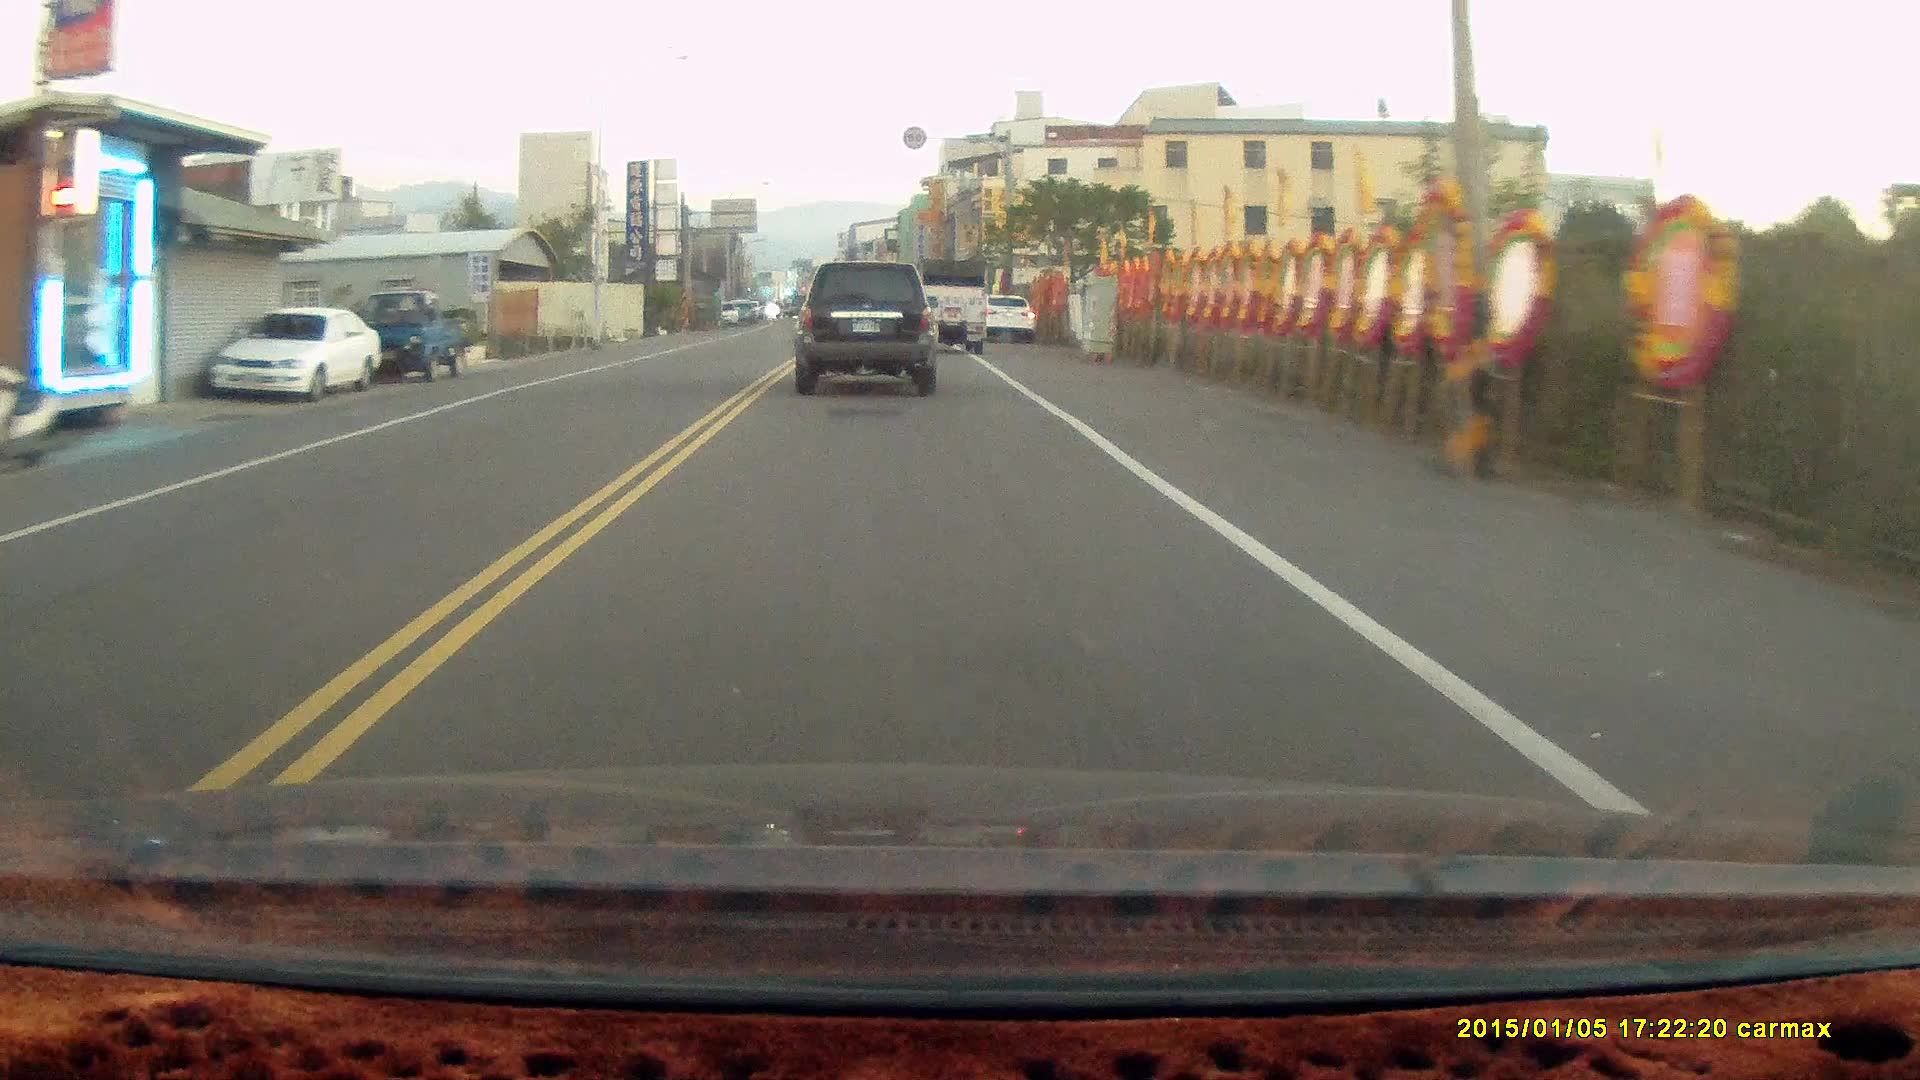vehicle: (796, 255, 943, 392), (214, 305, 384, 402), (357, 290, 465, 382), (916, 255, 994, 351), (978, 287, 1036, 343)
